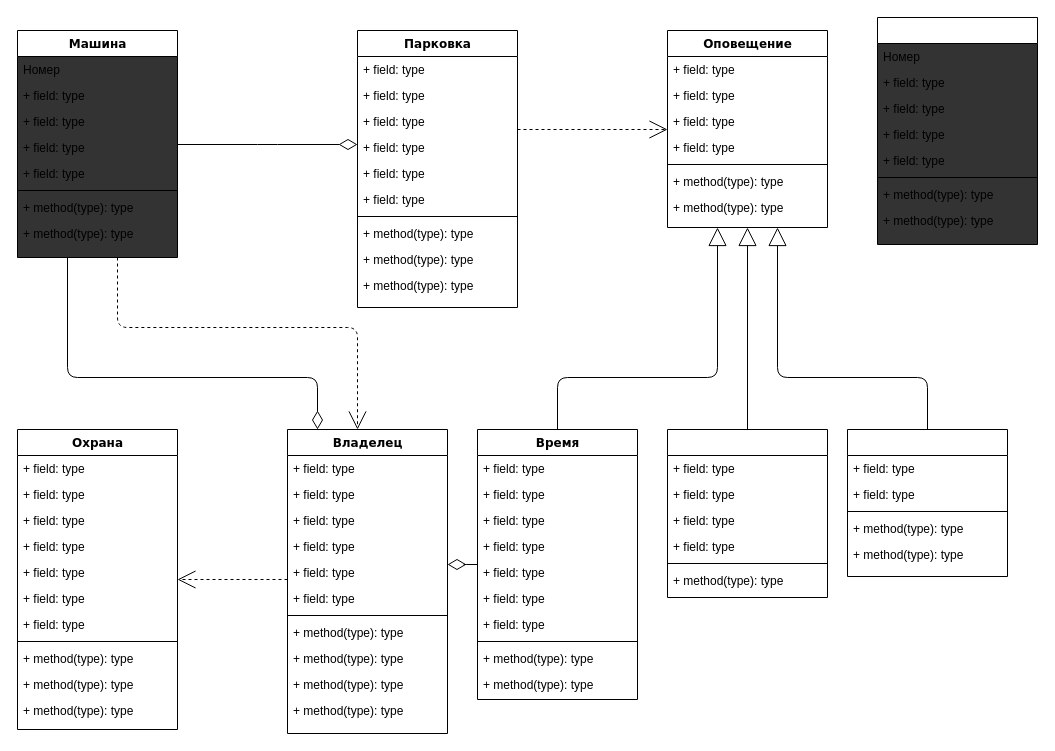
This 1055x751 diagram has some shape labels left out. Each missing label, with the box of its shape:
Деньги: (876, 16, 1038, 244)
Команда: (666, 428, 828, 598)
Сообщение: (846, 428, 1008, 576)
